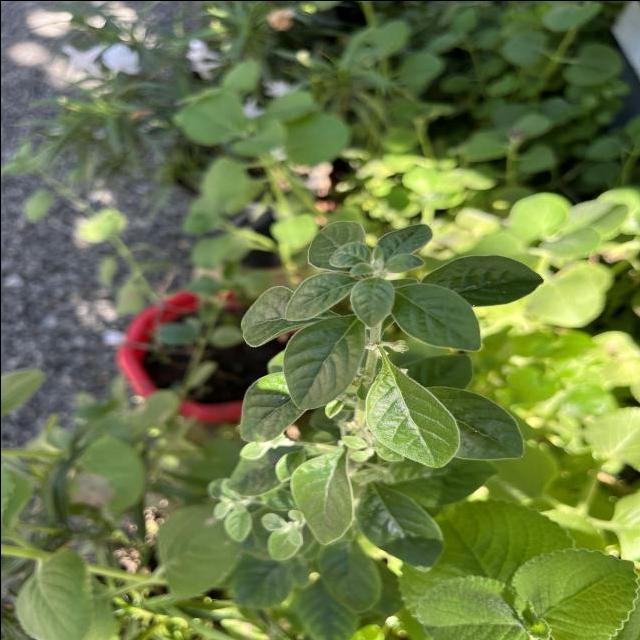Aerva lanata: (362, 360, 462, 470), (280, 313, 368, 412), (424, 384, 526, 462), (418, 252, 546, 308), (238, 282, 334, 348), (237, 370, 308, 442)
